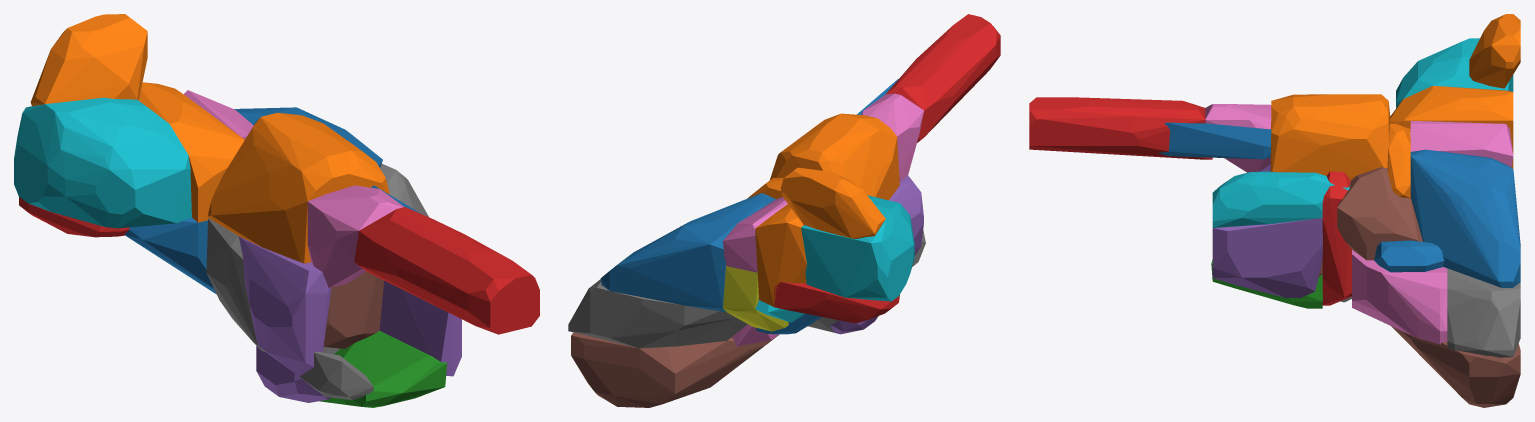
File: dist_decomp_small.obj
The picture shows the model from 3 angles, left to right: view 1: azimuth 30°, elevation 25°; view 2: azimuth 150°, elevation 25°; view 3: azimuth 270°, elevation 25°; orthographic projection. The views are drawn at different scales.
Visible parts, largest first — view 1: distal009, distal001, distal013, distal004, distal021, distal011, distal006, distal002, distal014, distal025, distal017, distal010 (+6 smaller); view 2: distal005, distal000, distal009, distal007, distal001, distal013, distal021, distal011, distal003, distal006, distal028, distal026 (+6 smaller); view 3: distal000, distal001, distal013, distal014, distal016, distal019, distal007, distal015, distal005, distal011, distal020, distal026 (+7 smaller).
Boxes of the visible parts, <box> form: distal009: <box>14,97,191,228</box>; distal001: <box>207,112,389,263</box>; distal013: <box>354,207,539,334</box>; distal004: <box>238,236,331,376</box>; distal021: <box>30,14,147,106</box>; distal011: <box>139,82,244,222</box>; distal006: <box>307,185,403,287</box>; distal002: <box>319,330,447,407</box>; distal014: <box>379,281,461,376</box>; distal025: <box>323,271,383,348</box>; distal017: <box>206,218,339,354</box>; distal010: <box>124,217,216,294</box>; distal005: <box>571,332,779,407</box>; distal000: <box>600,193,775,312</box>; distal009: <box>801,195,914,301</box>; distal007: <box>568,279,747,348</box>; distal001: <box>770,113,899,200</box>; distal013: <box>886,14,1000,142</box>; distal021: <box>781,167,885,238</box>; distal011: <box>755,204,806,306</box>; distal003: <box>774,281,899,323</box>; distal006: <box>861,93,923,180</box>; distal028: <box>723,266,788,331</box>; distal026: <box>723,197,787,272</box>; distal000: <box>1410,149,1520,287</box>; distal001: <box>1270,94,1390,180</box>; distal013: <box>1029,97,1212,159</box>; distal014: <box>1212,218,1322,297</box>; distal016: <box>1352,250,1447,344</box>; distal019: <box>1212,171,1349,227</box>; distal007: <box>1447,268,1520,357</box>; distal015: <box>1337,167,1422,260</box>; distal005: <box>1391,326,1520,407</box>; distal011: <box>1390,86,1513,168</box>; distal020: <box>1158,122,1271,159</box>; distal026: <box>1410,120,1513,167</box>.
Size of the model in its own units: 0.1082 by 0.0927 by 0.1479.
